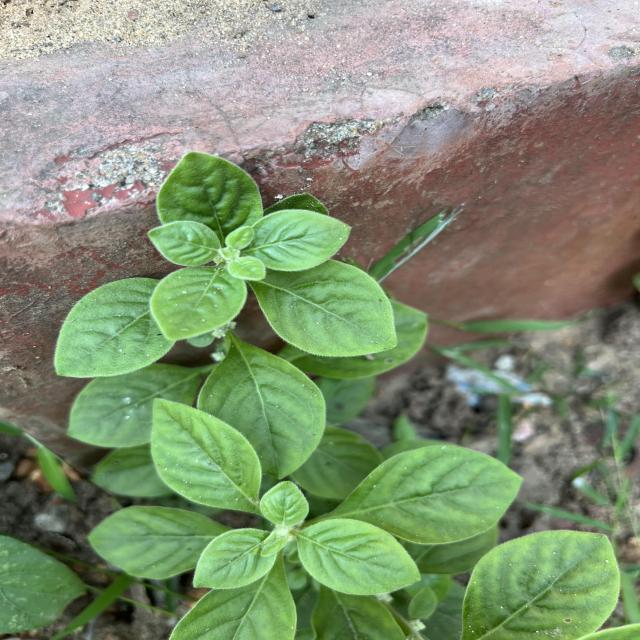Aerva lanata: (250, 258, 400, 360), (149, 396, 264, 516), (51, 275, 179, 381), (151, 150, 267, 246), (295, 515, 424, 598), (240, 206, 354, 274)
